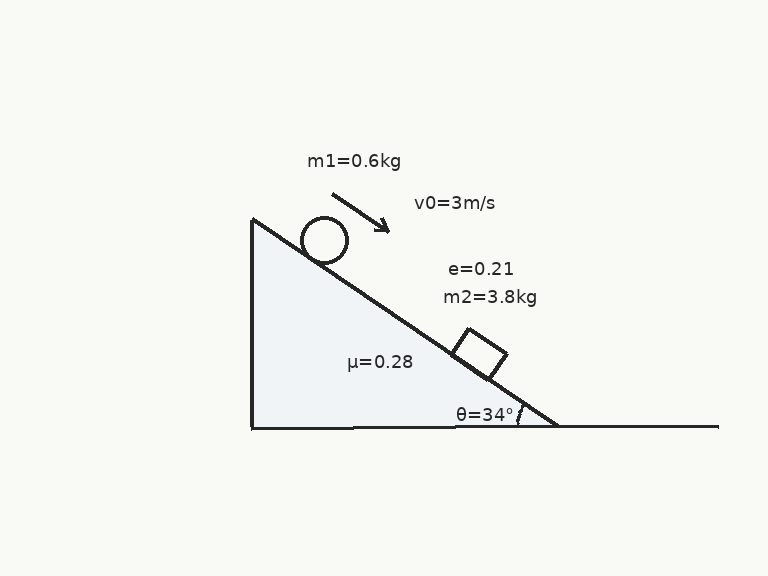ball: (298, 214, 350, 266)
block: (449, 326, 508, 381)
ramp: (249, 218, 559, 428)
